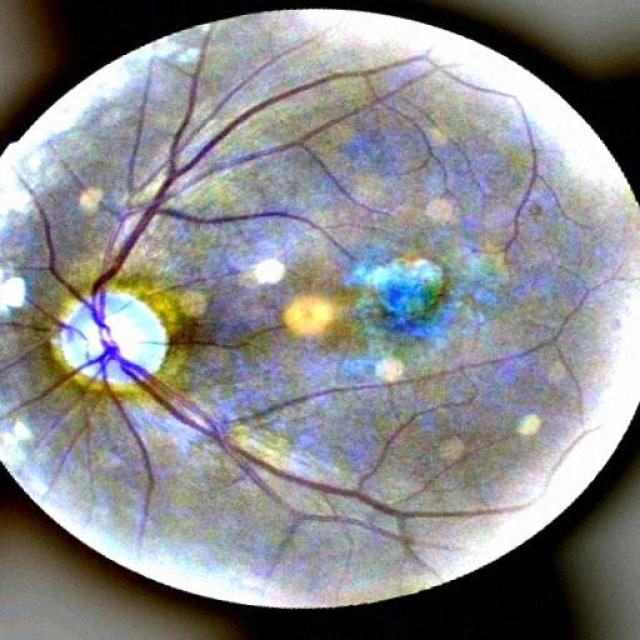Macula: (337, 257, 458, 351)
Nerves: (93, 69, 392, 333), (113, 351, 441, 545), (147, 320, 291, 353)
Optic Disk: (51, 287, 172, 398)
